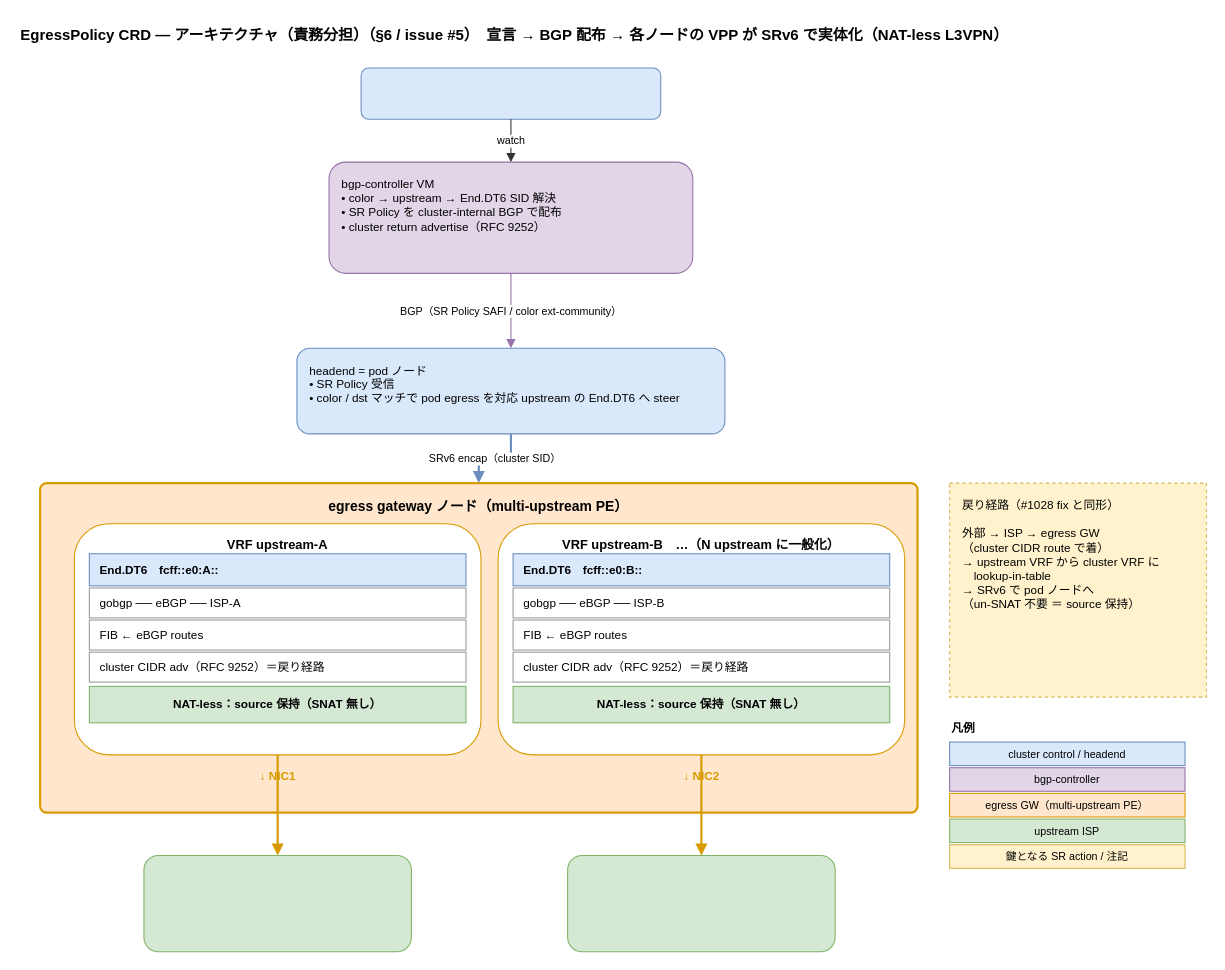
Image size: 1225x970. Some labels were removed from this diagram. The shapes that lost their labels are listed below. From the top down, each one's centre as x and y in pixels, then its label:
At point 510,93: "EgressPolicy（CRD） user intent（宣言的）".
At point 277,903: "ISP-A • gobgp / FRR • external prefix advertise".
At point 701,903: "ISP-B • gobgp / FRR • external prefix advertise".
